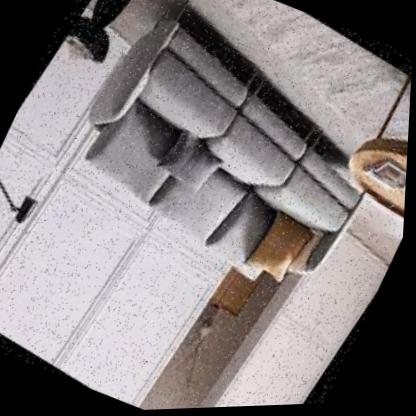Sofa: (3, 0, 416, 353)
